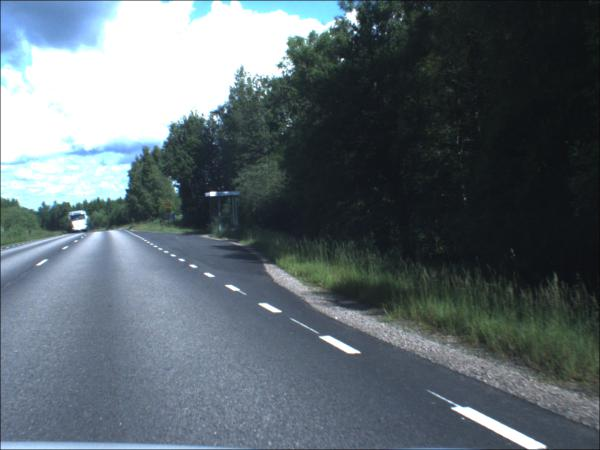80_SIGN: (166, 203, 174, 210)
PRIORITY_ROAD: (167, 209, 173, 215)
